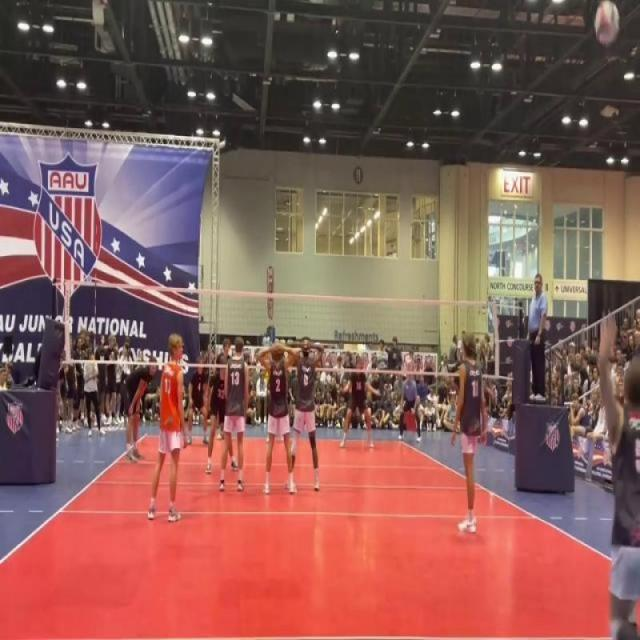volleyball: (592, 0, 621, 52)
